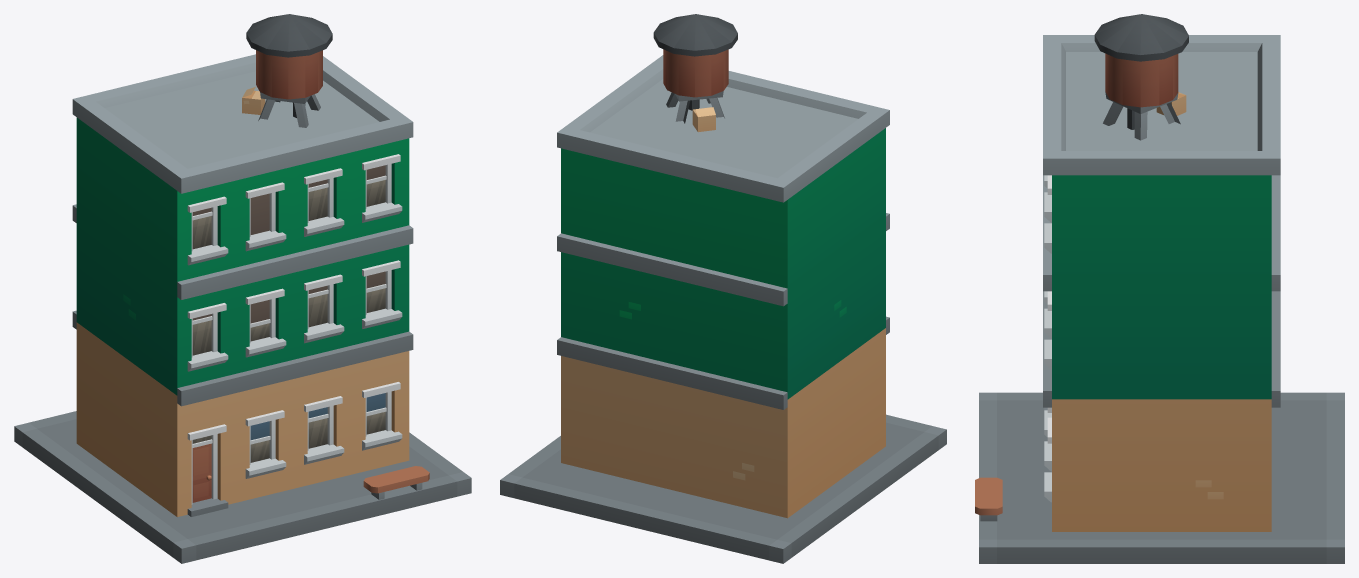
Rendered from building-D.glb.
The picture shows the model from 3 angles, left to right: view 1: azimuth 30°, elevation 25°; view 2: azimuth 150°, elevation 25°; view 3: azimuth 270°, elevation 25°; orthographic projection. The views are drawn at different scales.
Visible parts, largest first — view 1: building_D; view 2: building_D; view 3: building_D.
Boxes of the visible parts, x1,y1,x2,y2 form: building_D: (14, 14, 471, 563); building_D: (500, 14, 946, 563); building_D: (975, 14, 1344, 563).
Bounding box in the file's own units: 2 × 2.97 × 2.02.
1 material, 1 textured.
